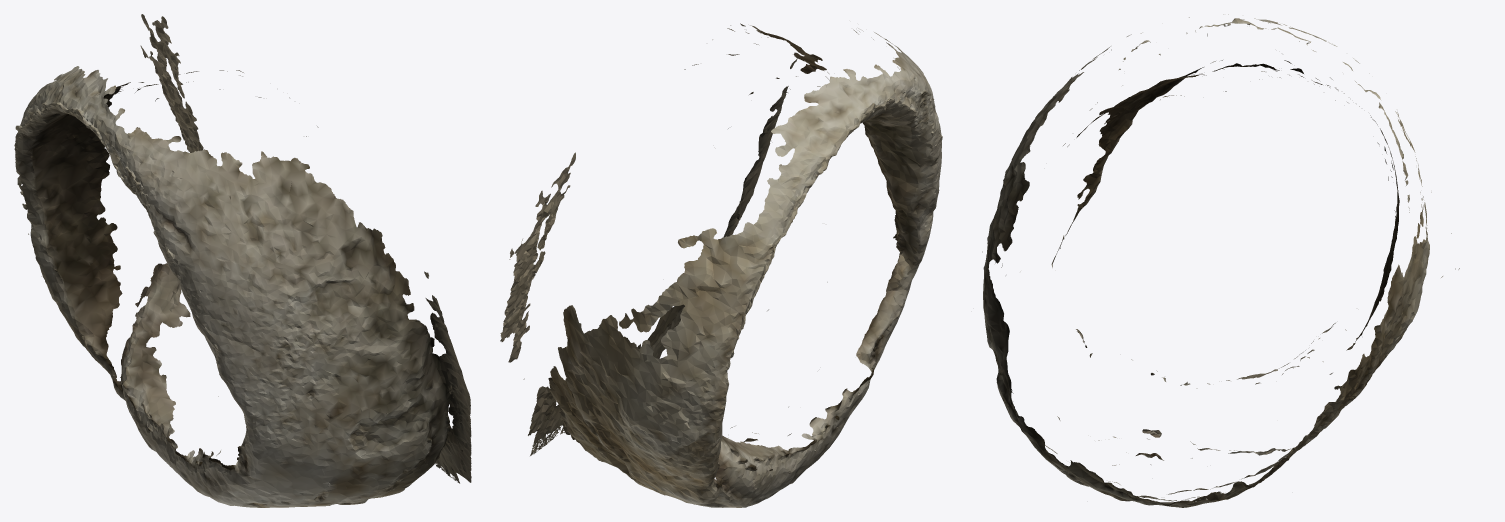
The model's file is ring.glb.
3 renders of one model, left to right at view 1: azimuth 30°, elevation 25°; view 2: azimuth 150°, elevation 25°; view 3: azimuth 270°, elevation 25°, orthographic. The views are drawn at different scales.
Parts seen in each view (by area): view 1: compressedply; view 2: compressedply; view 3: compressedply.
Boxes of the visible parts, bbox=[...] form: compressedply: bbox=[14, 14, 471, 507]; compressedply: bbox=[500, 23, 942, 507]; compressedply: bbox=[982, 14, 1459, 507].
Size of the model in its own units: 0.616 by 0.8565 by 1.01.
